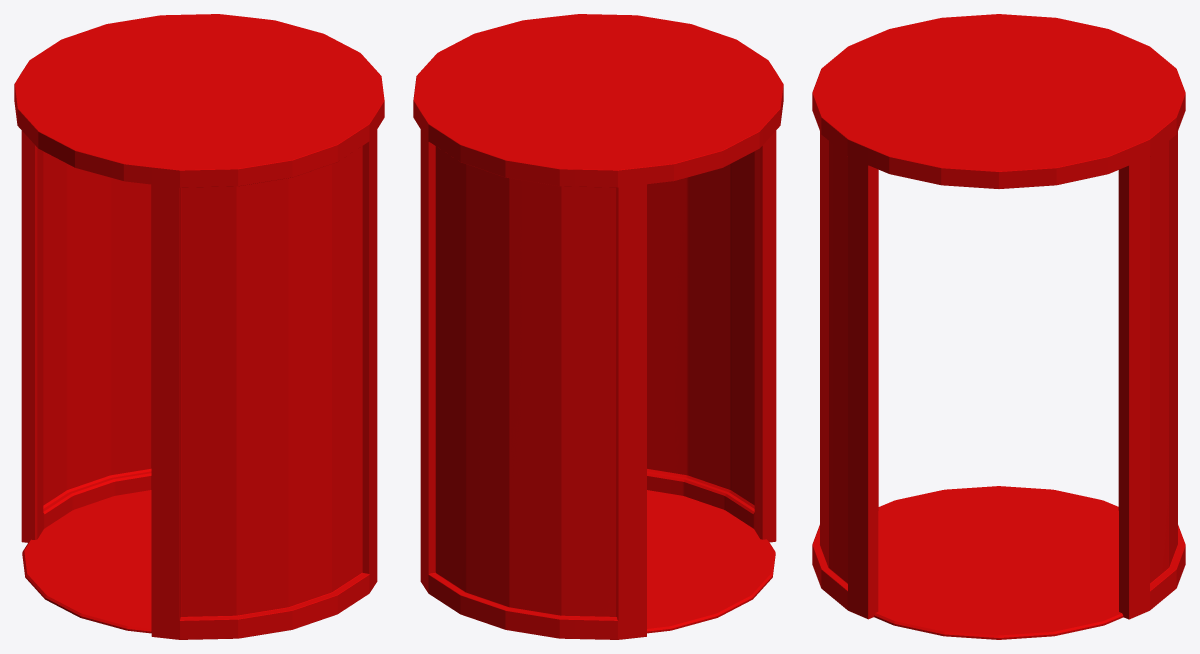
File: Frame_high.fbx
3 views of the same model, side by side, from view 1: azimuth 30°, elevation 25°; view 2: azimuth 150°, elevation 25°; view 3: azimuth 270°, elevation 25° (orthographic).
Visible parts, largest first — view 1: Frame_high; view 2: Frame_high; view 3: Frame_high.
Part boxes in pixels (x1=…): Frame_high: x1=14, y1=14, x2=384, y2=639; Frame_high: x1=413, y1=14, x2=783, y2=639; Frame_high: x1=812, y1=14, x2=1185, y2=639.
Bounding box in the file's own units: 4.64 × 6.47 × 4.64.
